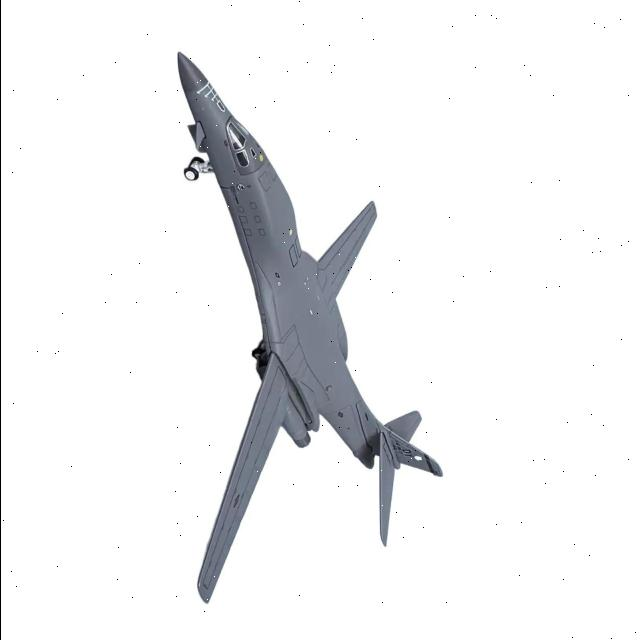B1: (128, 40, 548, 614)
